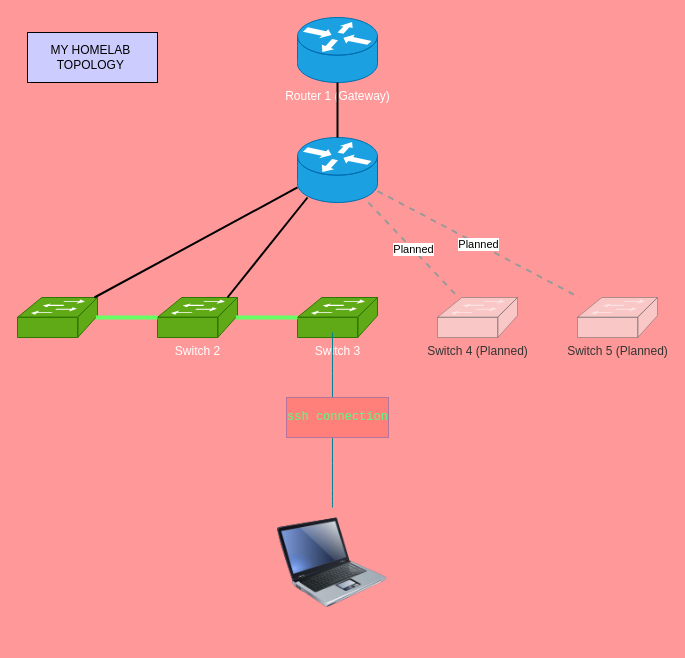
The diagram is 685 pixels wide and 658 high, and some of its shapes have lost their labels. Each missing label, with the centre of its shape:
MacBook Pro: the point at 332,562
Router 2: the point at 337,169
Switch 1: the point at 57,317
